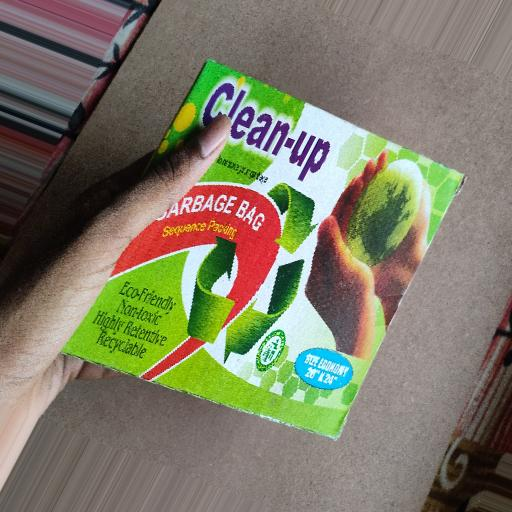CleanUp Garbage bag: (30, 64, 478, 454)
